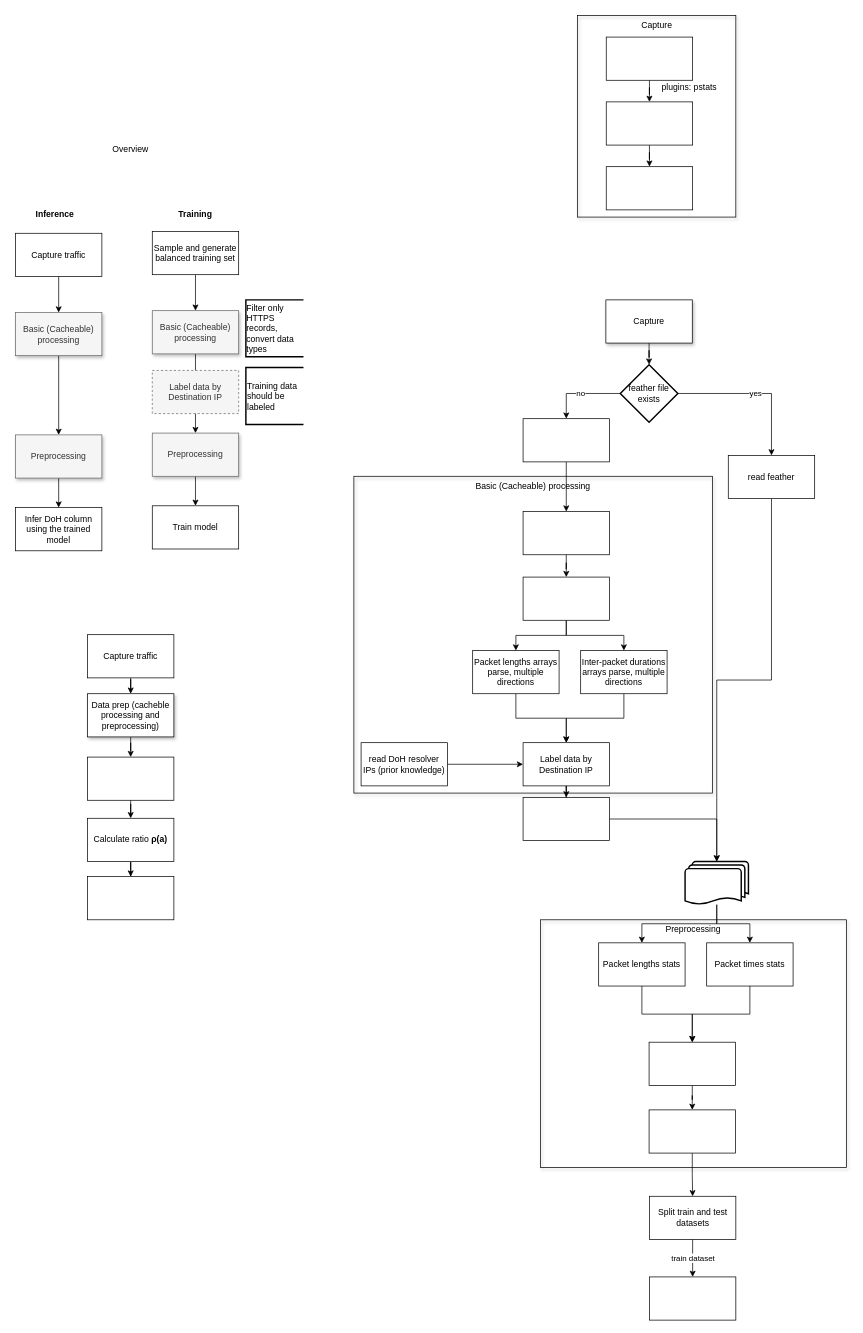
Some shapes in this 863 by 1333 pixel diagram are drawn without their labels. Here are the shapes that lost their labels. From the top down, the centre of each, then its label:
At (x=649, y=58): "ipfixprobe on sandbox network edge".
At (x=649, y=123): "nemea/logger outside of sandbox network".
At (x=649, y=188): "csv".
At (x=565, y=440): "read_csv".
At (x=565, y=533): "normalize packet directions src -> dst".
At (x=565, y=598): "Filter by `Destination Port == 443` (only for model training)".
At (x=130, y=778): "Infer DoH/nonDoH".
At (x=565, y=819): "Save feather".
At (x=130, y=898): "Apply anomaly detection to flag infected machines".
At (x=716, y=882): "Labeled dataframe".
At (x=691, y=1063): "Remove empty records".
At (x=691, y=1131): "Normalize statistical fields".
At (x=692, y=1298): "Build a model".
